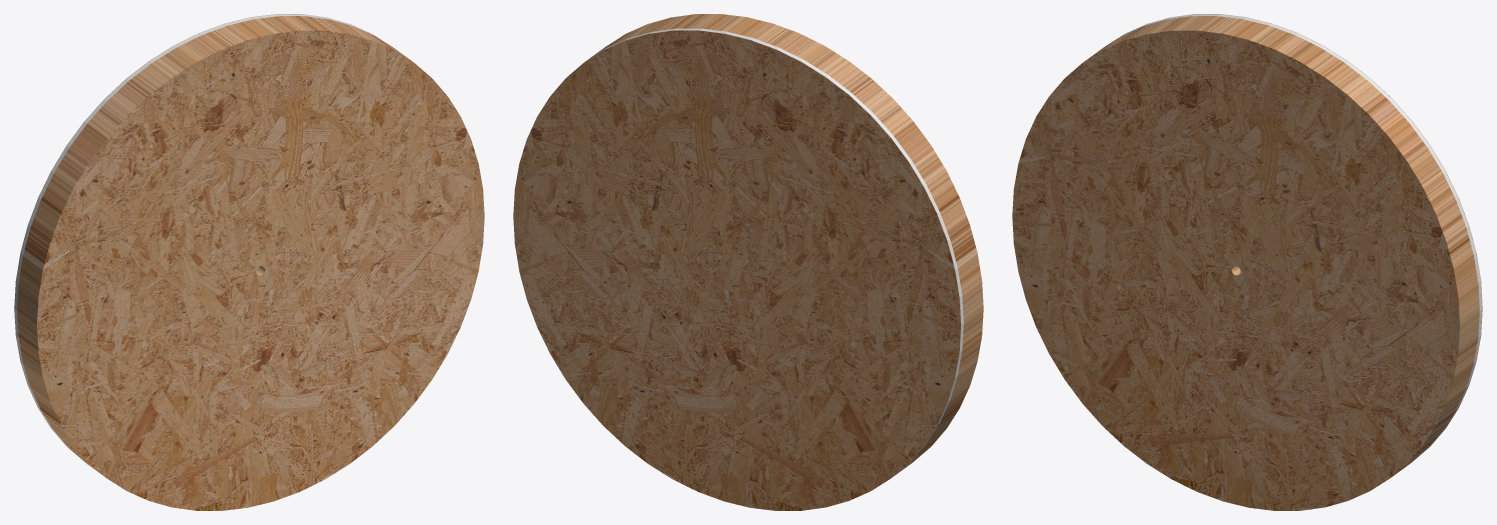
The model's file is roue.dae.
3 views of the same model, side by side, from view 1: azimuth 30°, elevation 25°; view 2: azimuth 150°, elevation 25°; view 3: azimuth 330°, elevation 25° (orthographic).
Parts seen in each view (by area): view 1: Shape_IndexedFaceSet.002, Shape_IndexedFaceSet.001, Shape_IndexedFaceSet; view 2: Shape_IndexedFaceSet.003, Shape_IndexedFaceSet.001, Shape_IndexedFaceSet, Shape_IndexedFaceSet.002; view 3: Shape_IndexedFaceSet.002, Shape_IndexedFaceSet.001, Shape_IndexedFaceSet.
Part boxes in pixels (<box>): Shape_IndexedFaceSet.002: <box>34,28,484,510</box>; Shape_IndexedFaceSet.001: <box>17,16,409,474</box>; Shape_IndexedFaceSet: <box>14,14,391,463</box>; Shape_IndexedFaceSet.003: <box>513,30,961,510</box>; Shape_IndexedFaceSet.001: <box>589,16,980,474</box>; Shape_IndexedFaceSet: <box>585,28,963,476</box>; Shape_IndexedFaceSet.002: <box>606,14,983,463</box>; Shape_IndexedFaceSet.002: <box>1012,28,1462,510</box>; Shape_IndexedFaceSet.001: <box>1087,16,1479,474</box>; Shape_IndexedFaceSet: <box>1105,14,1482,463</box>.
Bounding box in the file's own units: 0.3 × 0.0263 × 0.2995.
Materials: 1 (1 with a texture image).
